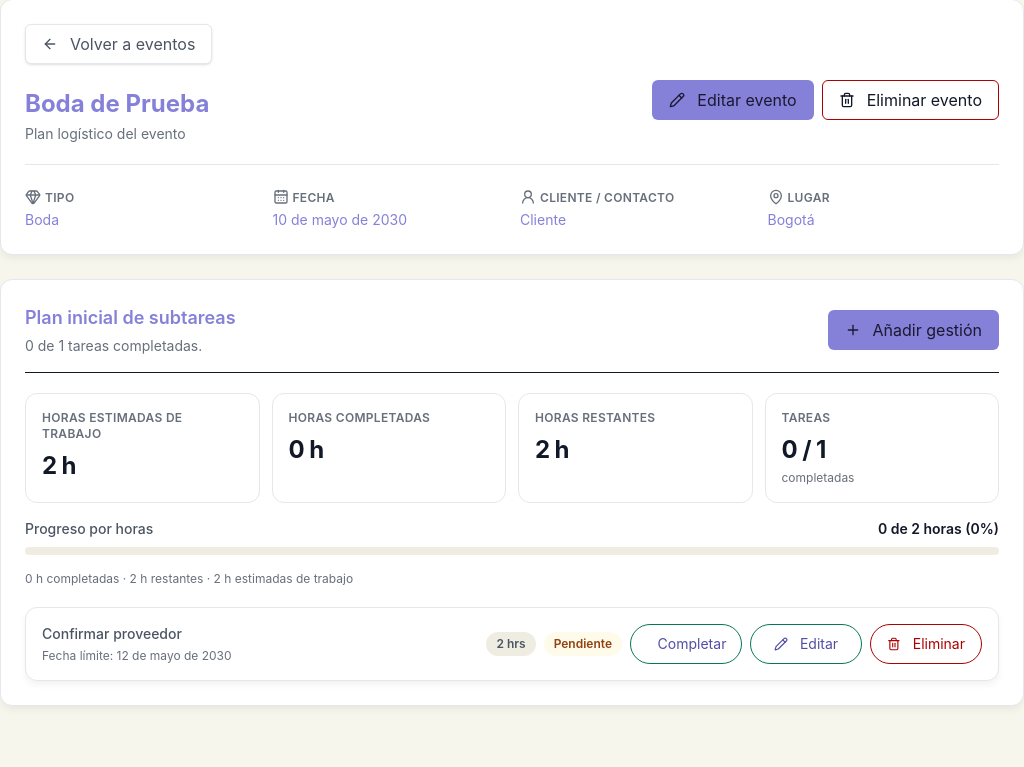
Test: guardado de una gestión editada › confirma con éxito cuando resuelto es true
The image size is (1024, 767).
Click the button "Editar" at (806, 644), box [750, 624, 862, 664]
(page scrolled)
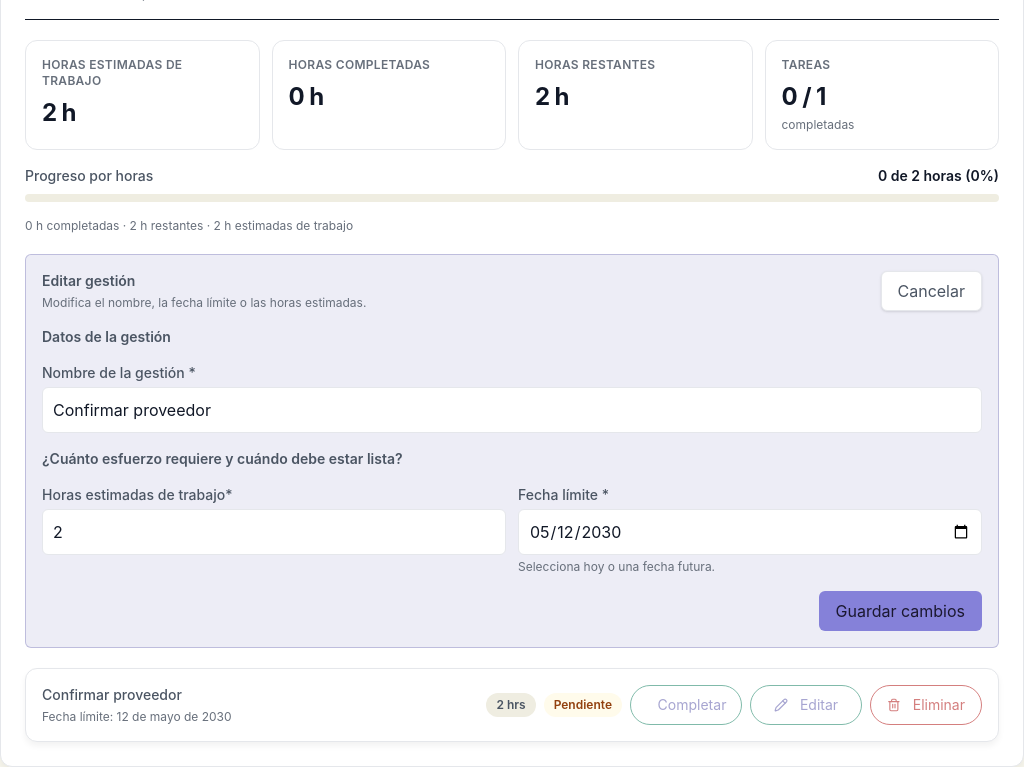
Now the field with id "edit-subtask-title" is shown, box [42, 387, 982, 433]
Now the form with id "edit-subtask-title" is shown
Submit the form with id "edit-subtask-title", box [25, 254, 999, 648]
(page scrolled)
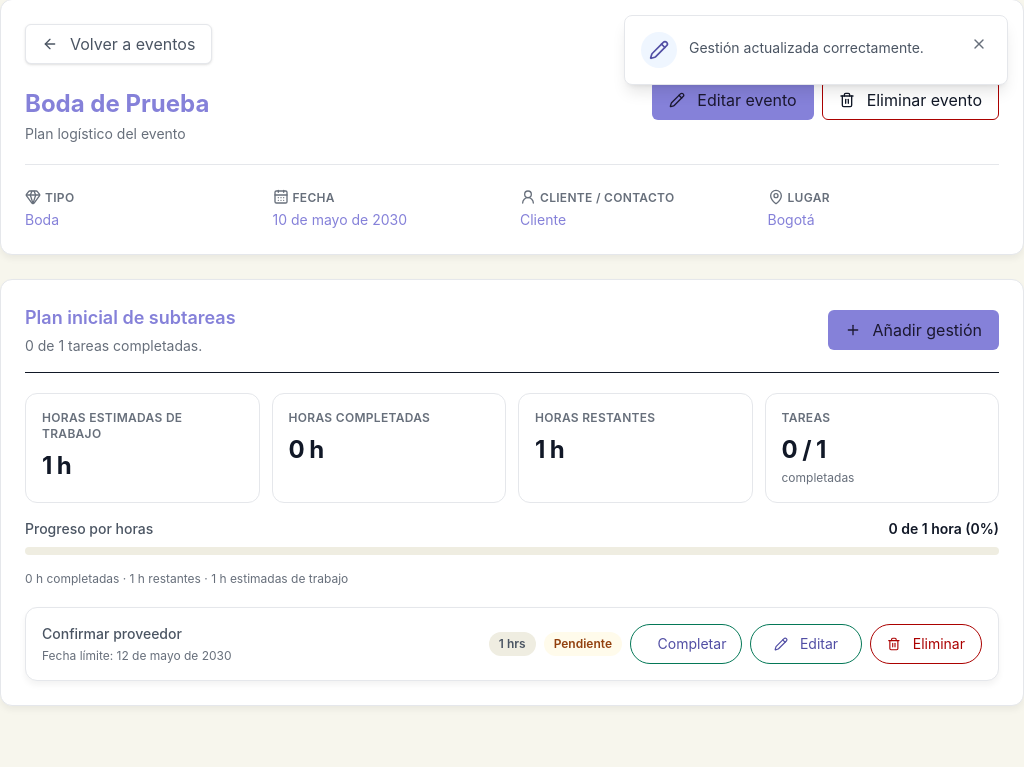
Now the text "Gestión actualizada" is shown, box [689, 39, 924, 56]
